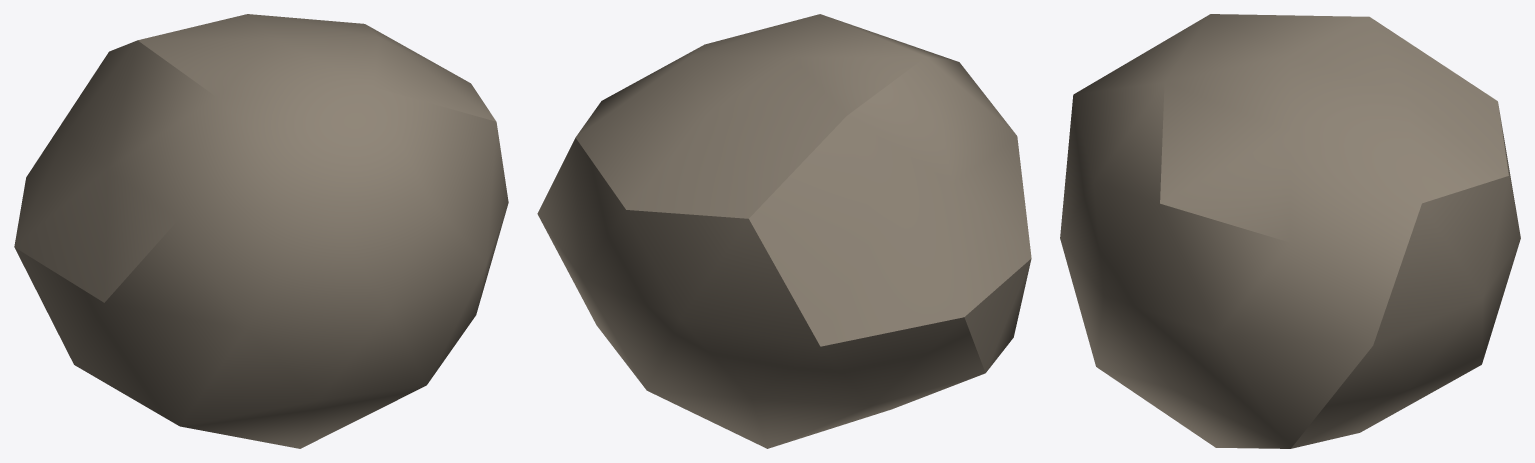
Rendered from nature_boulder.glb.
3 views of the same model, side by side, from view 1: azimuth 30°, elevation 25°; view 2: azimuth 150°, elevation 25°; view 3: azimuth 270°, elevation 25° (orthographic). The views are drawn at different scales.
Visible parts, largest first — view 1: nature_boulder; view 2: nature_boulder; view 3: nature_boulder.
Part boxes in pixels (box(x1,y1,x2,y2)): nature_boulder: box(14, 14, 508, 448); nature_boulder: box(537, 14, 1031, 448); nature_boulder: box(1060, 14, 1520, 448).
Size of the model in its own units: 0.8777 by 0.6953 by 0.8049.
